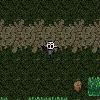Jason: (40, 41, 58, 60)
Obstacle: (68, 77, 88, 96)
Slow: (88, 77, 100, 96)
